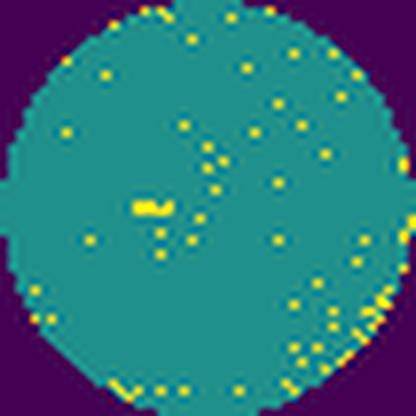Loc: (124, 198, 178, 216)
